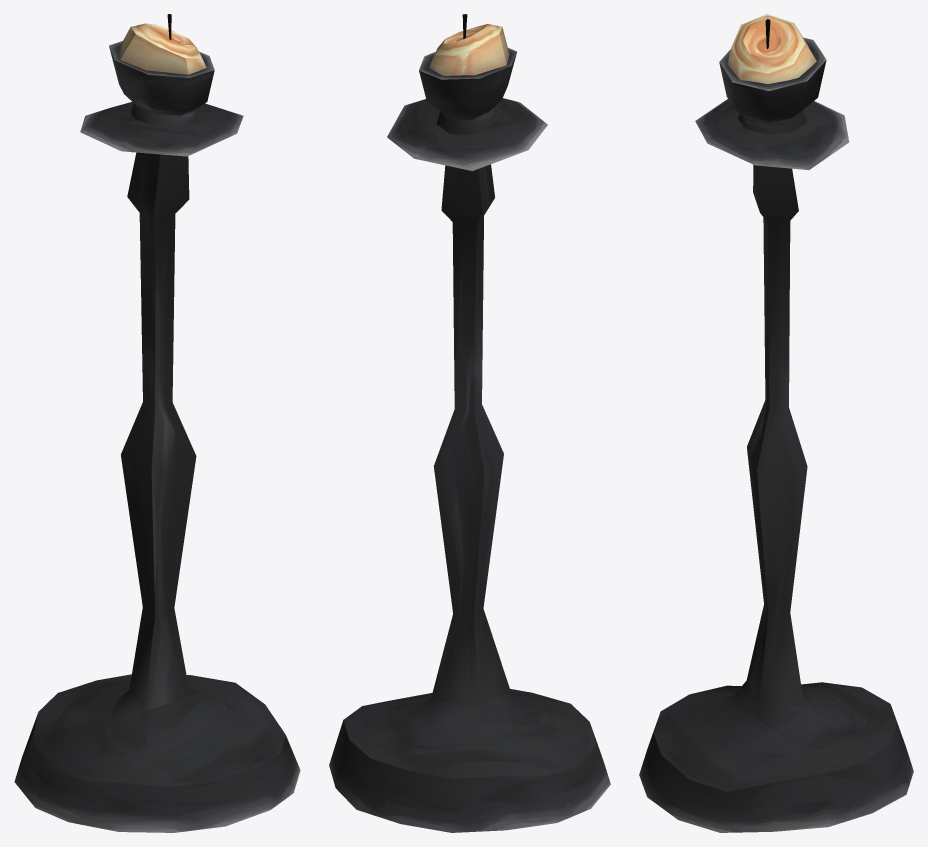
The model's file is SM_PROP_candle_dungeon_06.fbx.
The picture shows the model from 3 angles, left to right: view 1: azimuth 30°, elevation 25°; view 2: azimuth 150°, elevation 25°; view 3: azimuth 270°, elevation 25°; orthographic projection.
Visible parts, largest first — view 1: SM_PROP_candle_dungeon_06; view 2: SM_PROP_candle_dungeon_06; view 3: SM_PROP_candle_dungeon_06.
Part boxes in pixels (left/top/right/bottom): SM_PROP_candle_dungeon_06: left=14, top=14, right=300, bottom=832; SM_PROP_candle_dungeon_06: left=329, top=14, right=610, bottom=832; SM_PROP_candle_dungeon_06: left=639, top=14, right=913, bottom=832.
Size of the model in its own units: 20.82 by 62.55 by 20.44.
